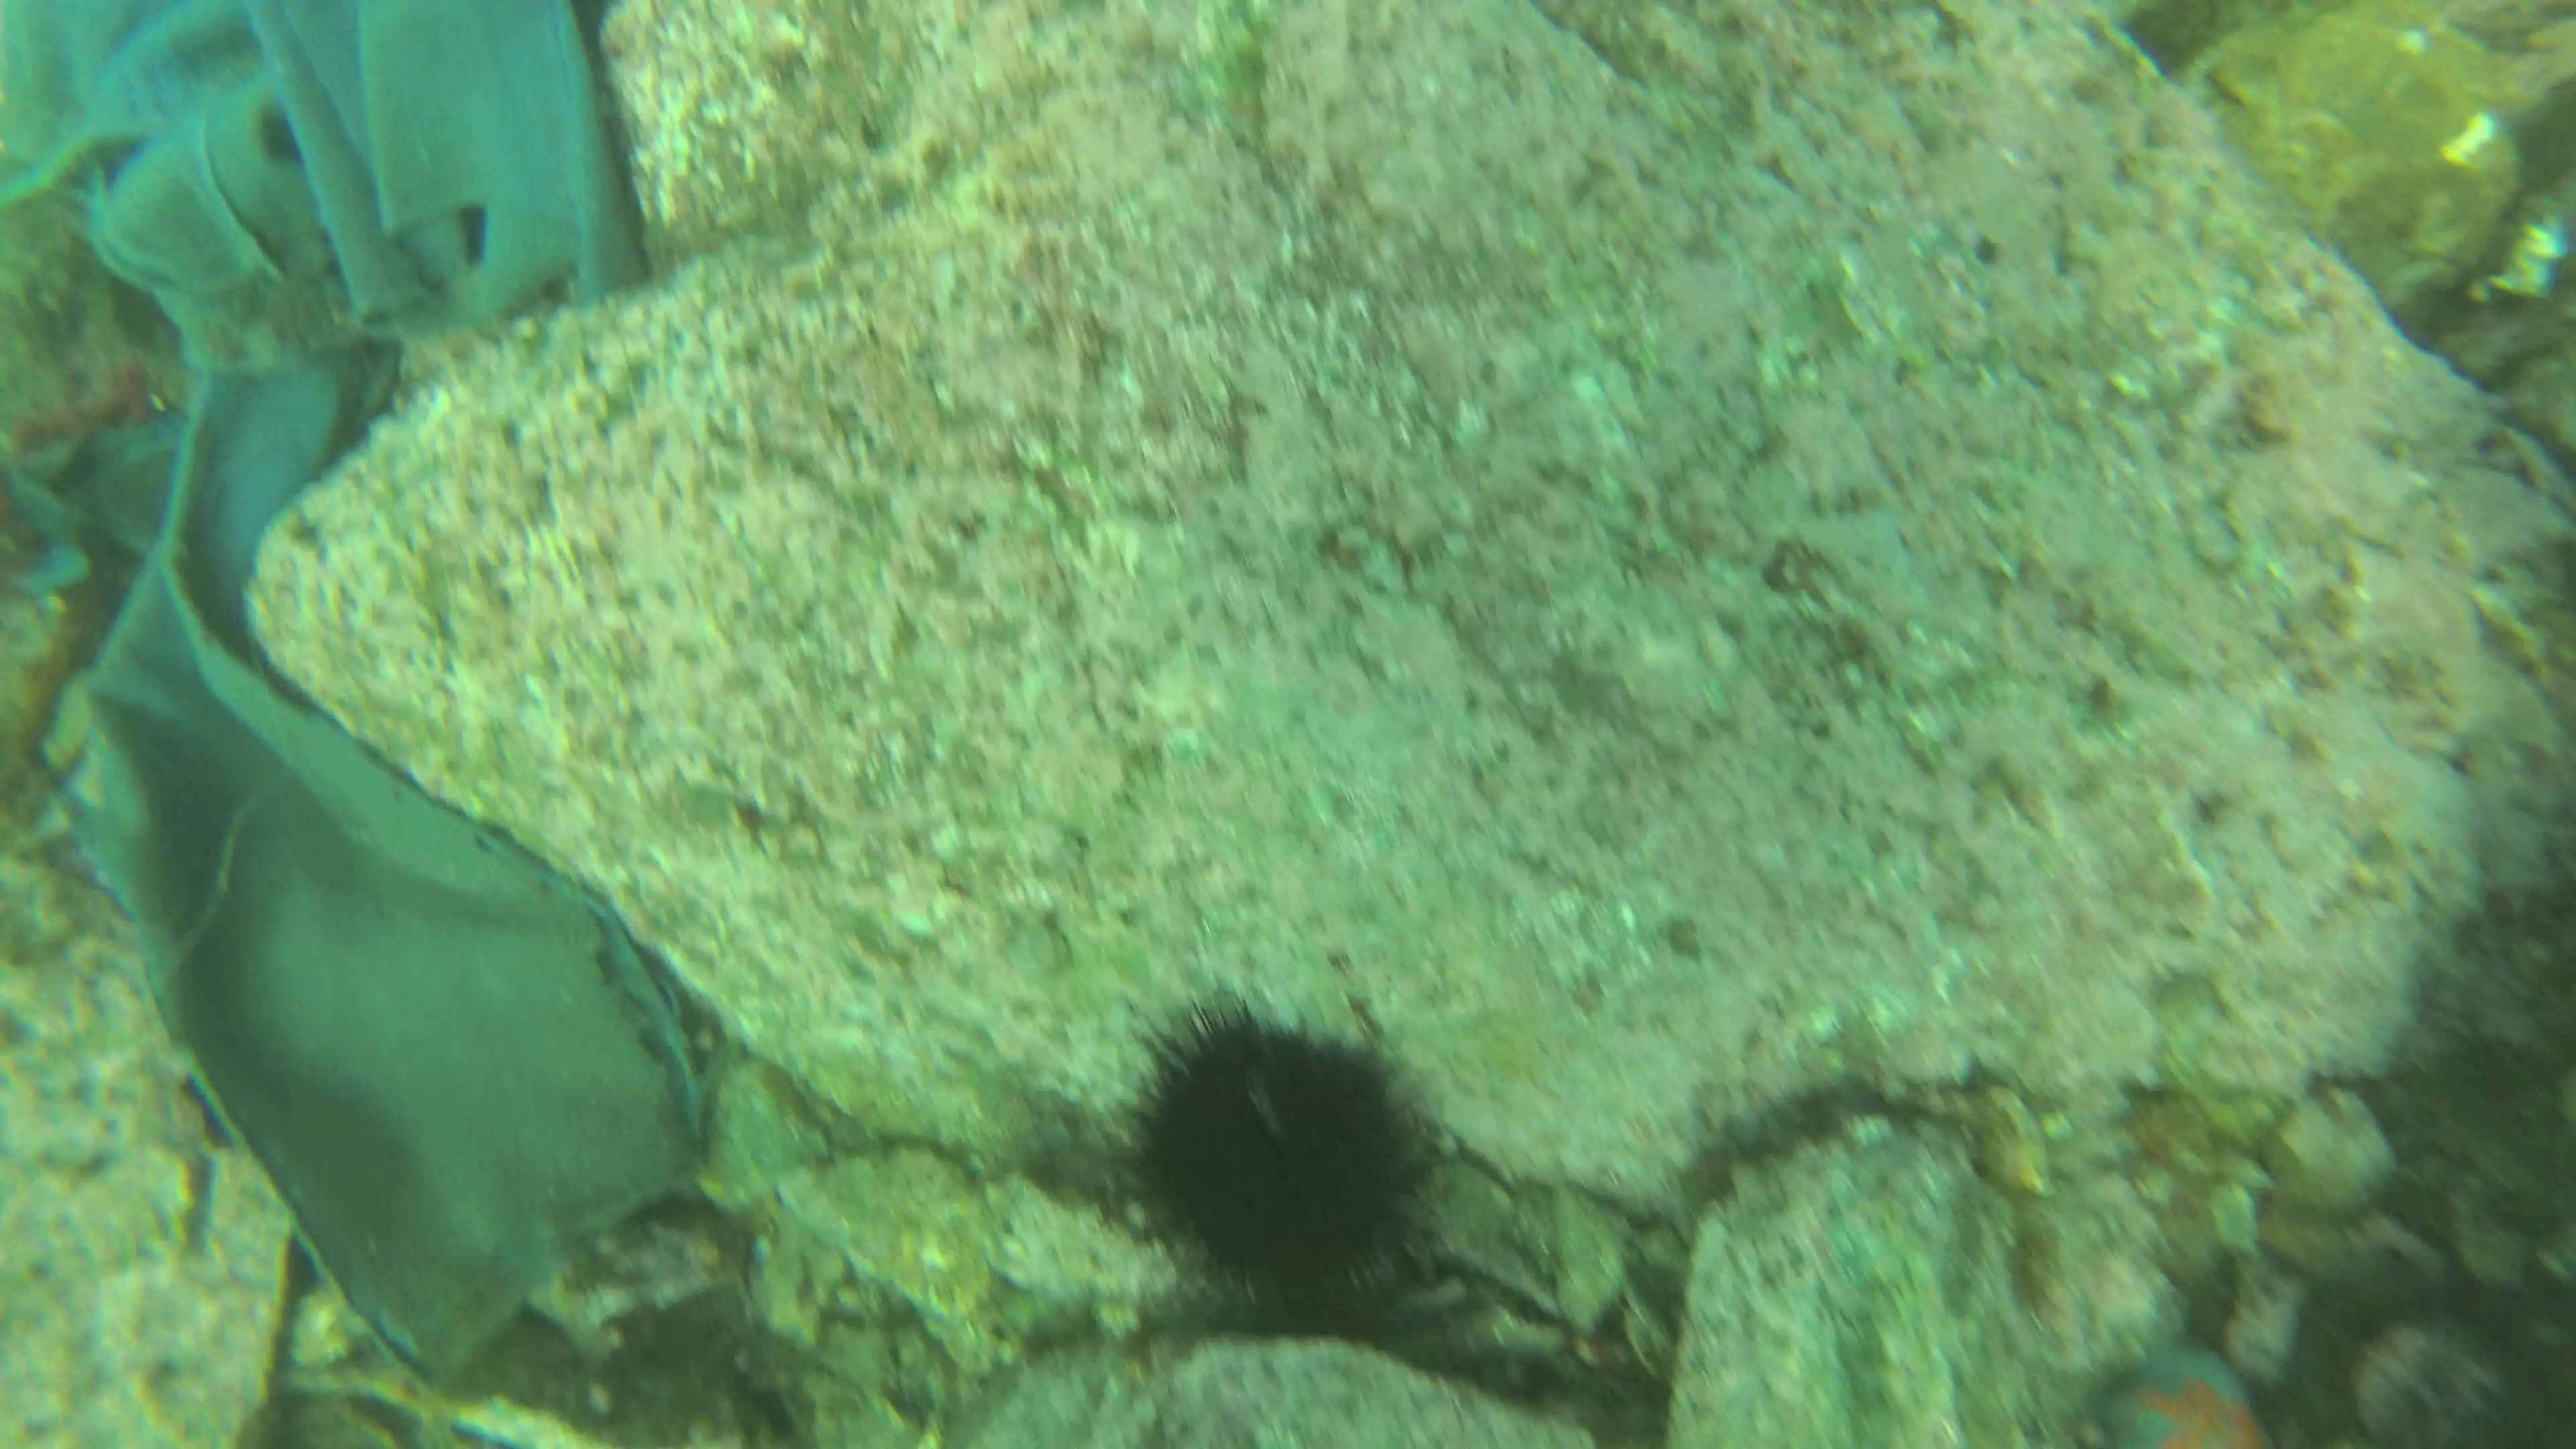echinus: (1108, 987, 1454, 1316)
starfish: (2075, 1325, 2288, 1442)
